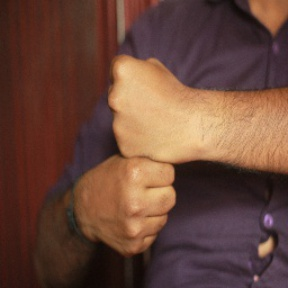G: (86, 46, 191, 256)
